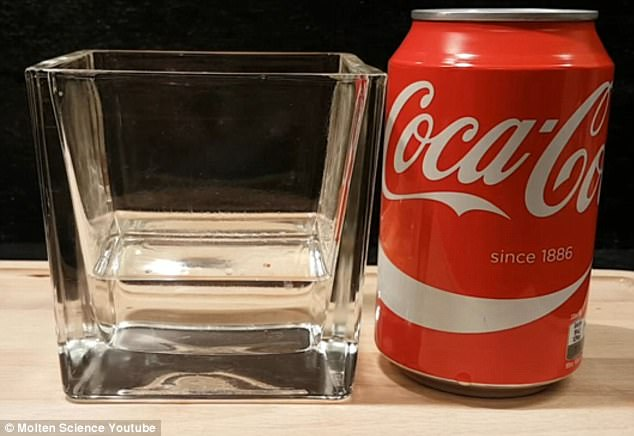coke: (389, 9, 605, 393)
